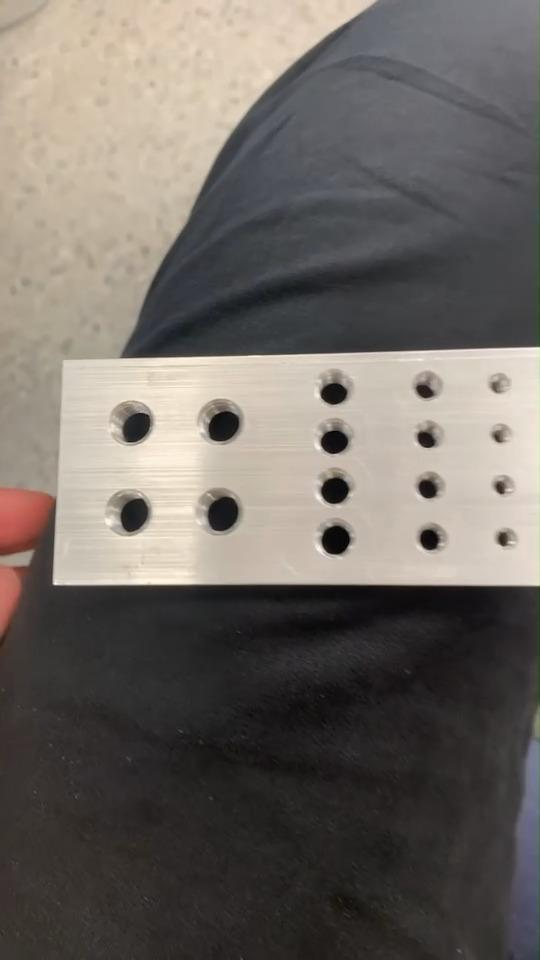hole: (196, 398, 244, 445), (194, 489, 239, 534), (110, 400, 154, 446), (106, 488, 150, 534), (315, 518, 354, 560), (316, 470, 356, 507), (313, 419, 354, 454), (315, 370, 354, 406), (409, 371, 444, 404), (416, 524, 447, 554), (413, 473, 445, 502), (414, 420, 444, 450), (494, 524, 518, 550), (489, 373, 512, 396), (492, 474, 514, 497), (490, 426, 512, 448)
